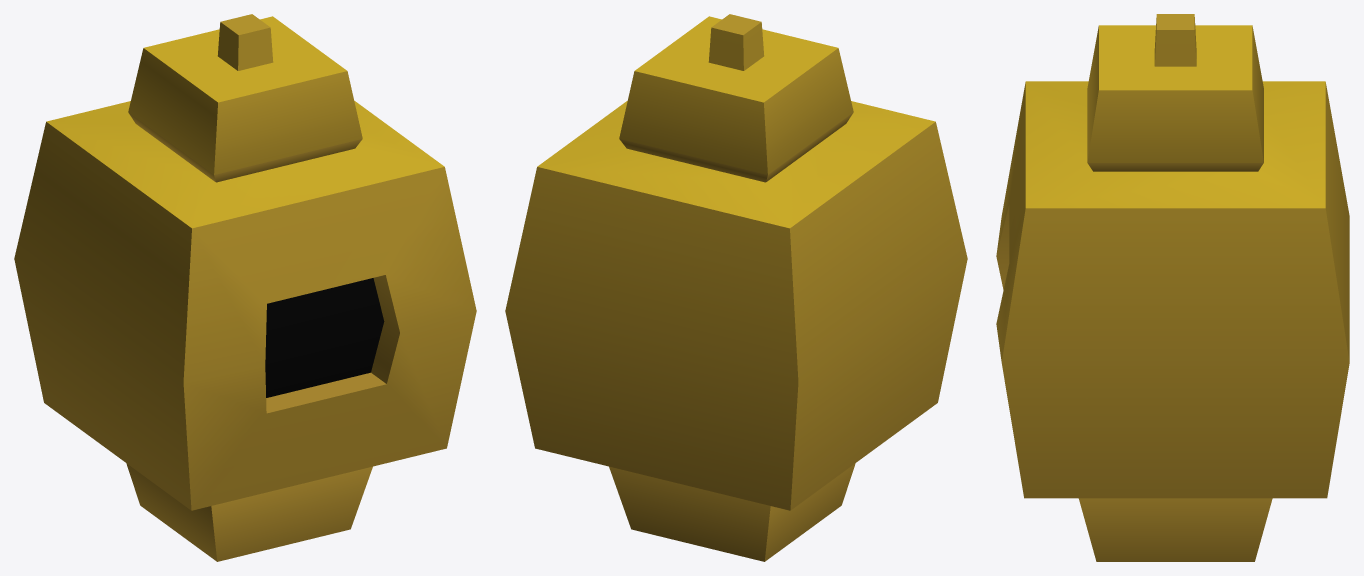
Rendered from bees-nest.fbx.
3 renders of one model, left to right at view 1: azimuth 30°, elevation 25°; view 2: azimuth 150°, elevation 25°; view 3: azimuth 270°, elevation 25°, orthographic. The views are drawn at different scales.
Visible parts, largest first — view 1: beas-nest; view 2: beas-nest; view 3: beas-nest.
Boxes of the visible parts, box(x1,y1,x2,y2) form: beas-nest: box(14, 14, 476, 561); beas-nest: box(505, 14, 967, 561); beas-nest: box(996, 14, 1349, 561).
Bounding box in the file's own units: 0.6615 × 1.06 × 0.6717.
